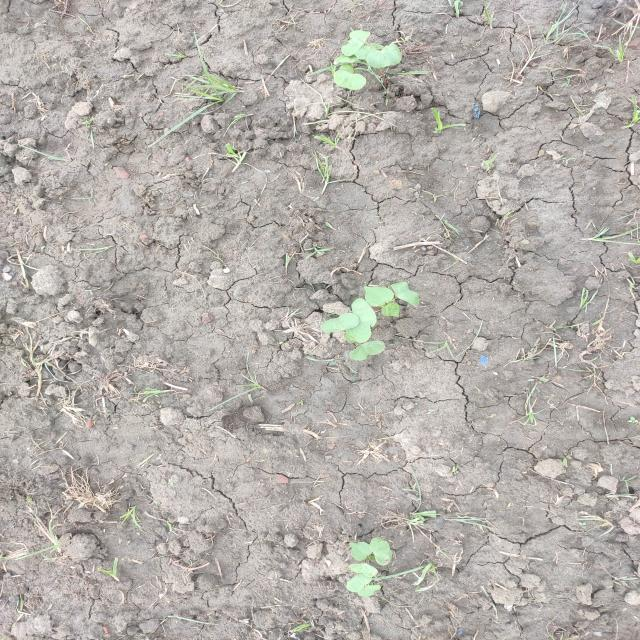seedling_s4: (367, 44, 402, 68), (341, 30, 370, 57), (350, 340, 385, 361), (351, 298, 376, 327), (321, 313, 359, 332), (391, 282, 419, 306), (334, 70, 367, 90), (370, 537, 392, 566), (346, 320, 373, 343), (364, 286, 394, 306), (346, 573, 372, 593), (348, 563, 378, 578), (349, 542, 372, 561), (355, 46, 377, 60), (358, 585, 381, 597), (382, 302, 400, 317), (334, 55, 361, 63), (339, 63, 354, 73)
